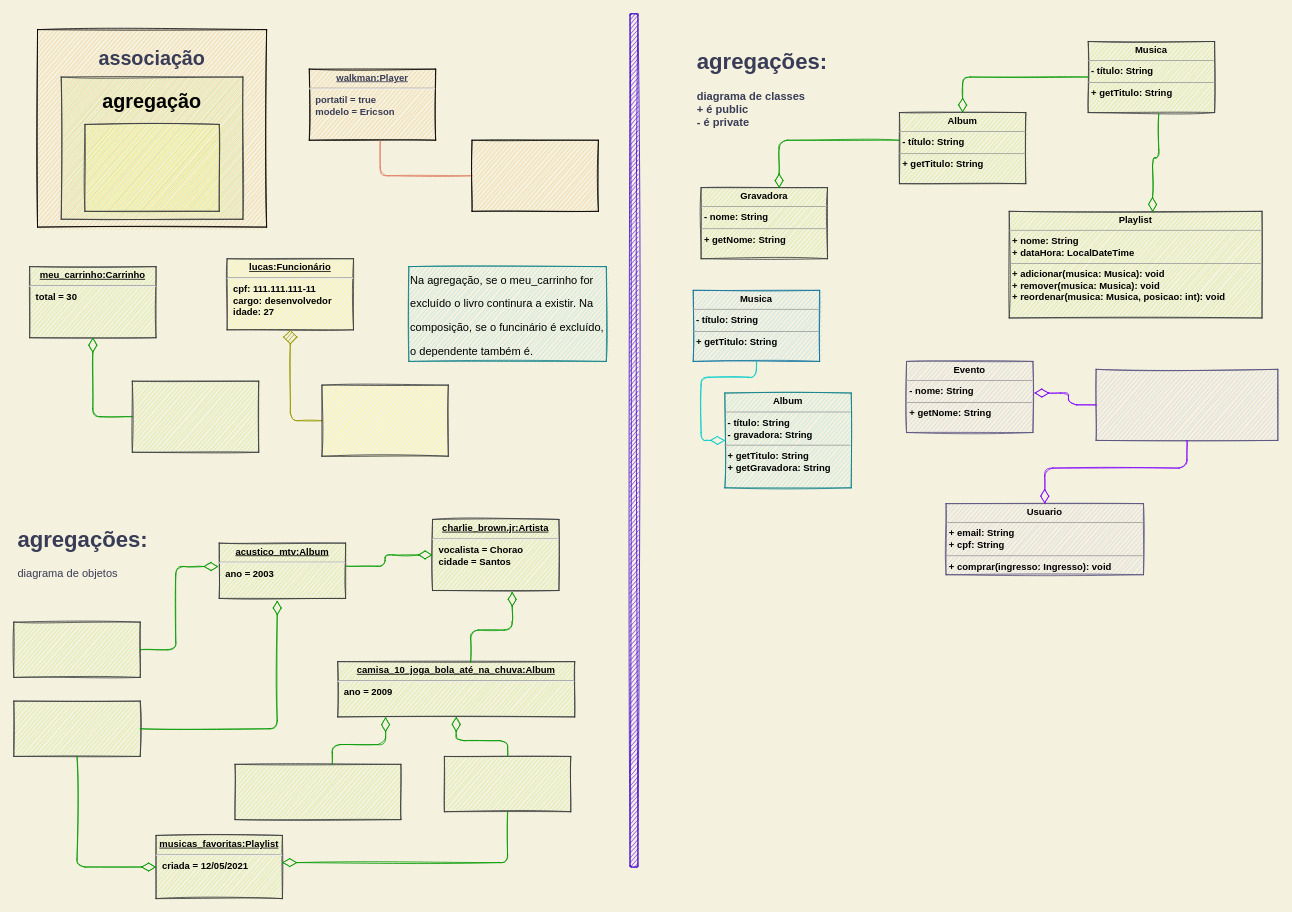
Image size: 1292x912. Some labels were removed from this diagram. Each missing label, with the centre of its shape:
"charlie_brown_jr:CD album = Acustico MTV ano = 2003" goes at [534,175].
"composição" goes at [151,167].
"Ingresso + numero: int + assento: int + vender(comprador: Usuario): void" goes at [1186,404].
"livro:Livro titulo = Salem's Lot autor = stephen king" goes at [195,416].
"marina:Dependente cpf: 222.222.222-22 idade: 1" goes at [384,420].
"me_encontra:Musica duração = 3m31s" goes at [507,784].
"papo_reto:Musica duração = 3m19s" goes at [76,649].
"proibida_pra_mim:Musica duração = 2m34s" goes at [76,728].
"so_os_loucos_sabem:Musica duração = 3m31s" goes at [317,792].
